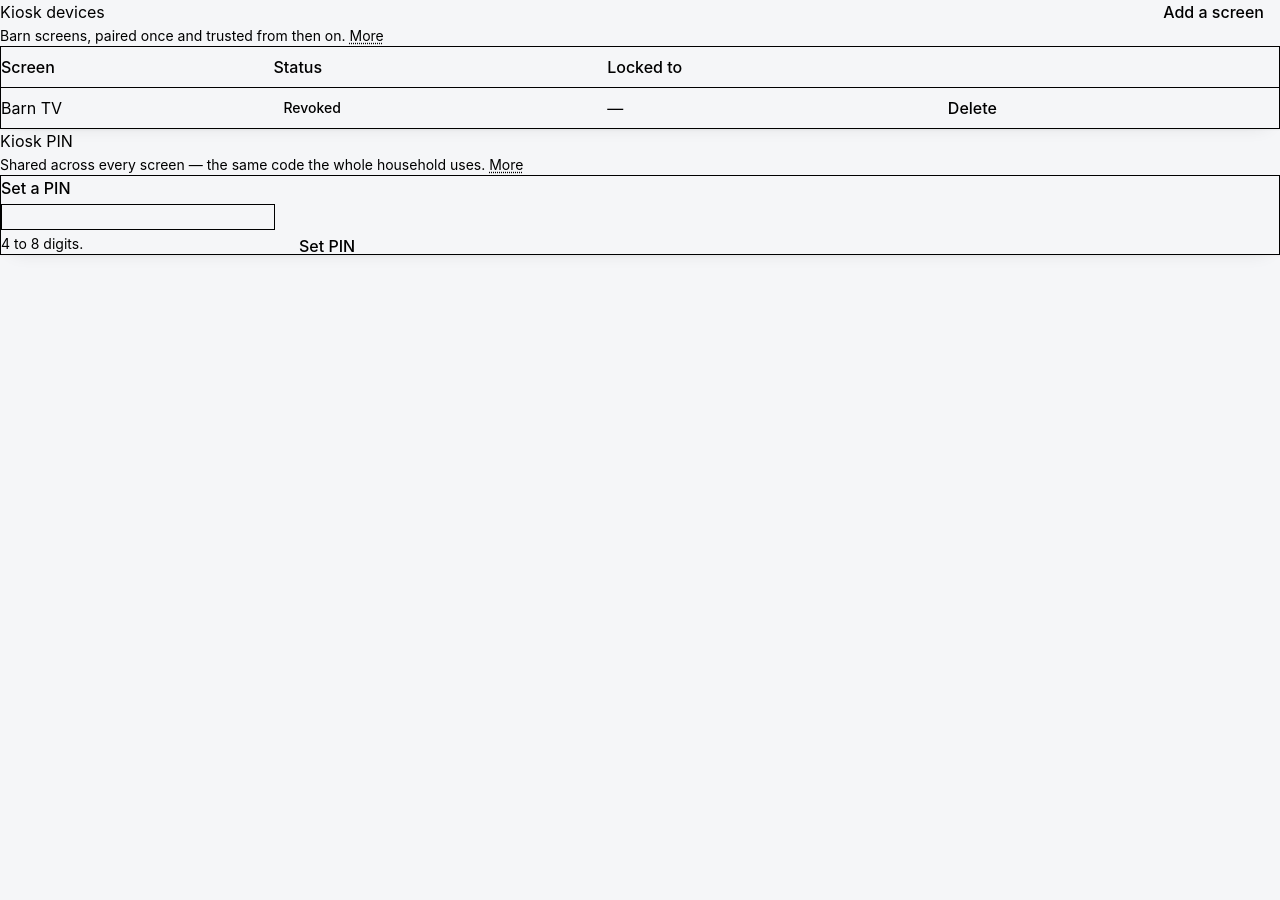
Test: deleting a screen › does not warn a screen will go dark when it is already revoked
The image size is (1280, 900).
Step 1. Click the button "Delete" → (972, 108), box left=932, top=100, right=1013, bottom=116
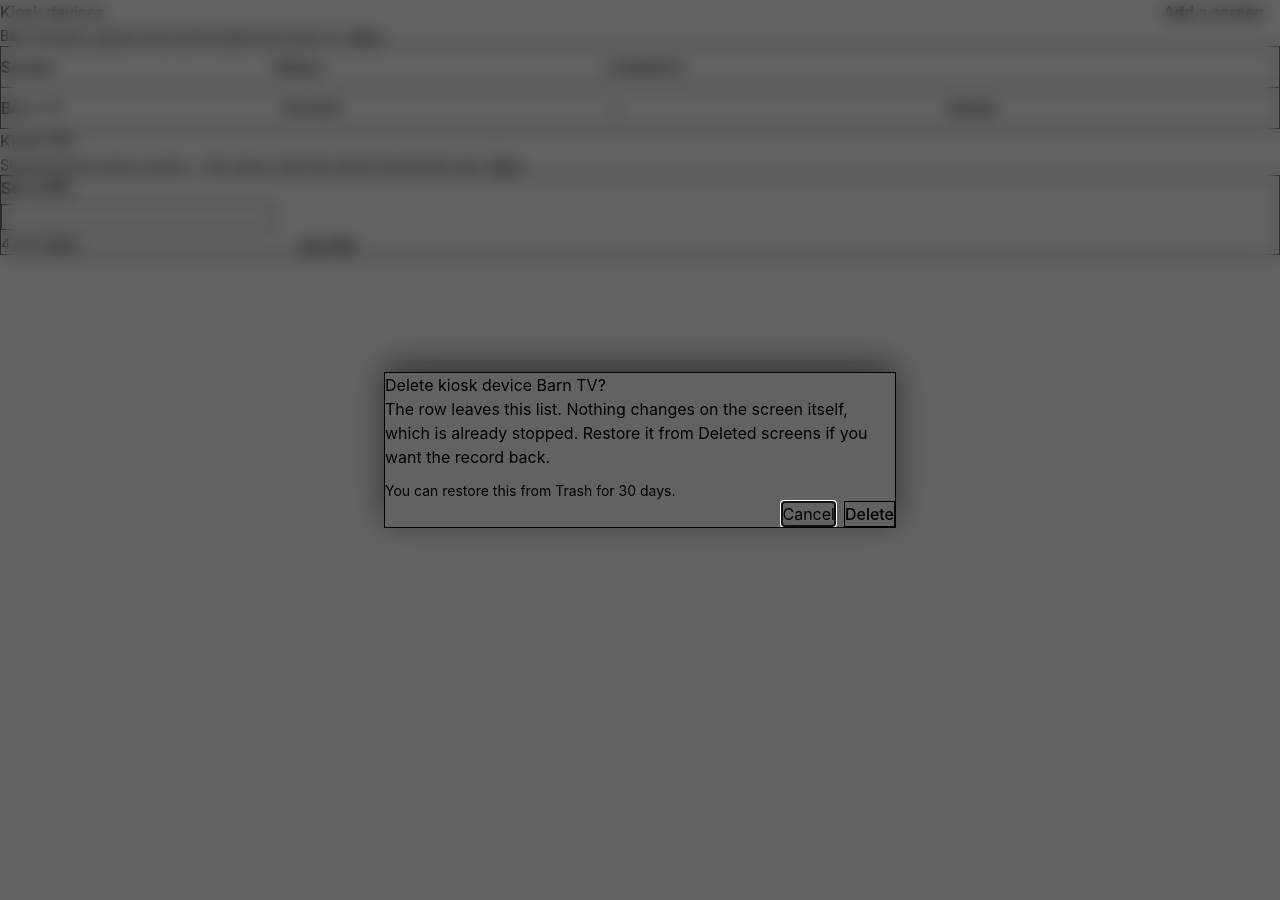
Check: the text "already stopped" is shown, box left=385, top=399, right=868, bottom=467
